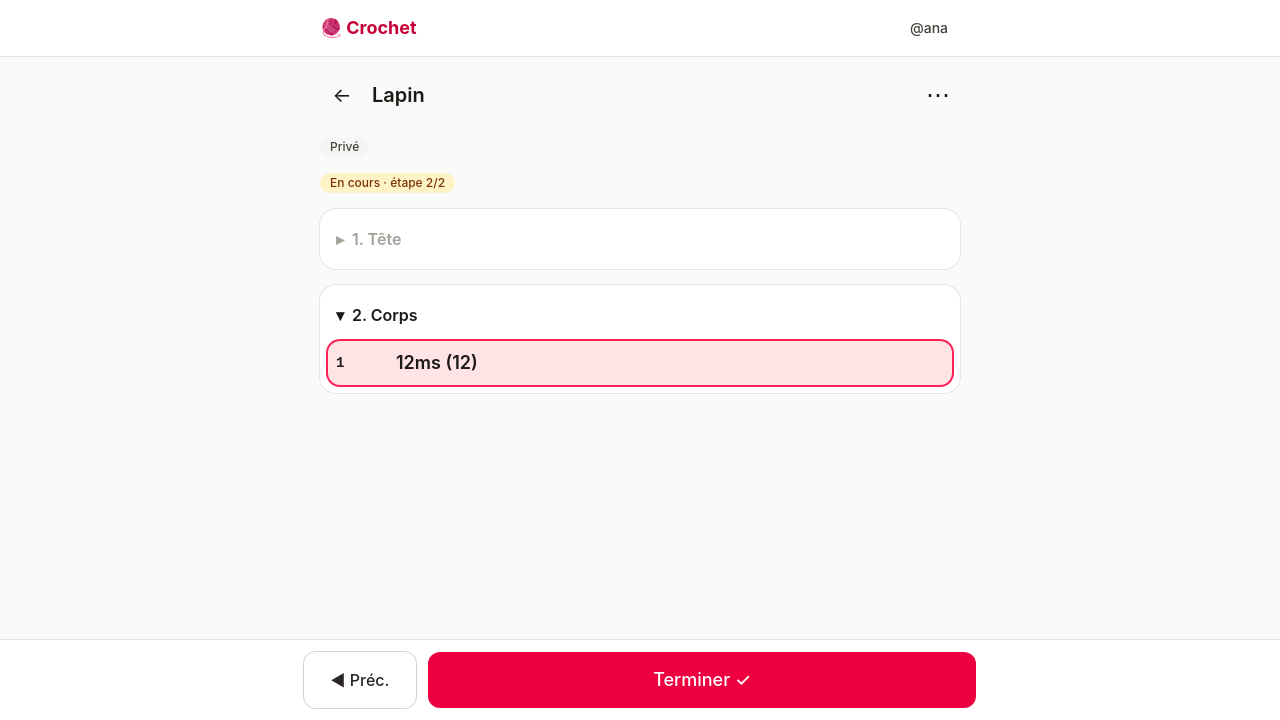
Test case: PatternDetailPage › désactive Précédent au premier rang et recule ensuite
What coordinates should you click on to do the following:
click the button with aria-label "Rang précédent"
I would click on:
 (360, 680)
Its box is [304,652,416,708].
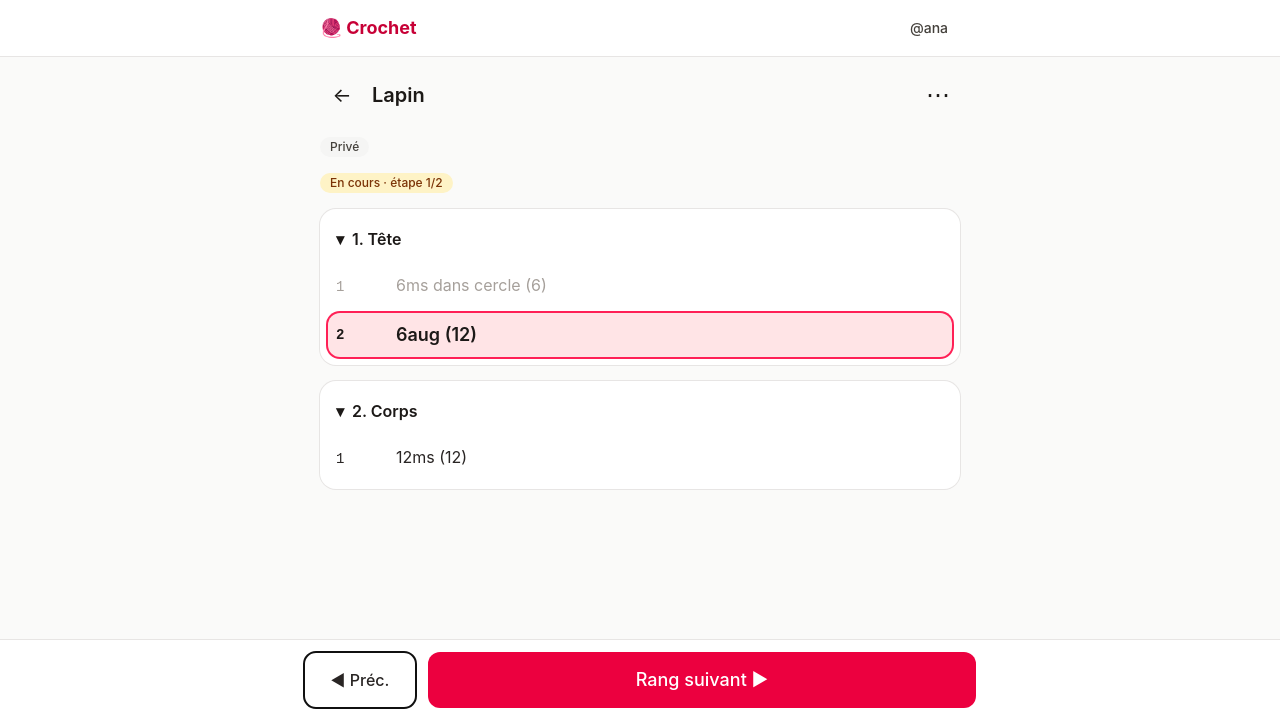
What coordinates should you click on to do the following:
click the button with aria-label "Rang précédent"
I would click on:
 (360, 680)
Its box is [304,652,416,708].
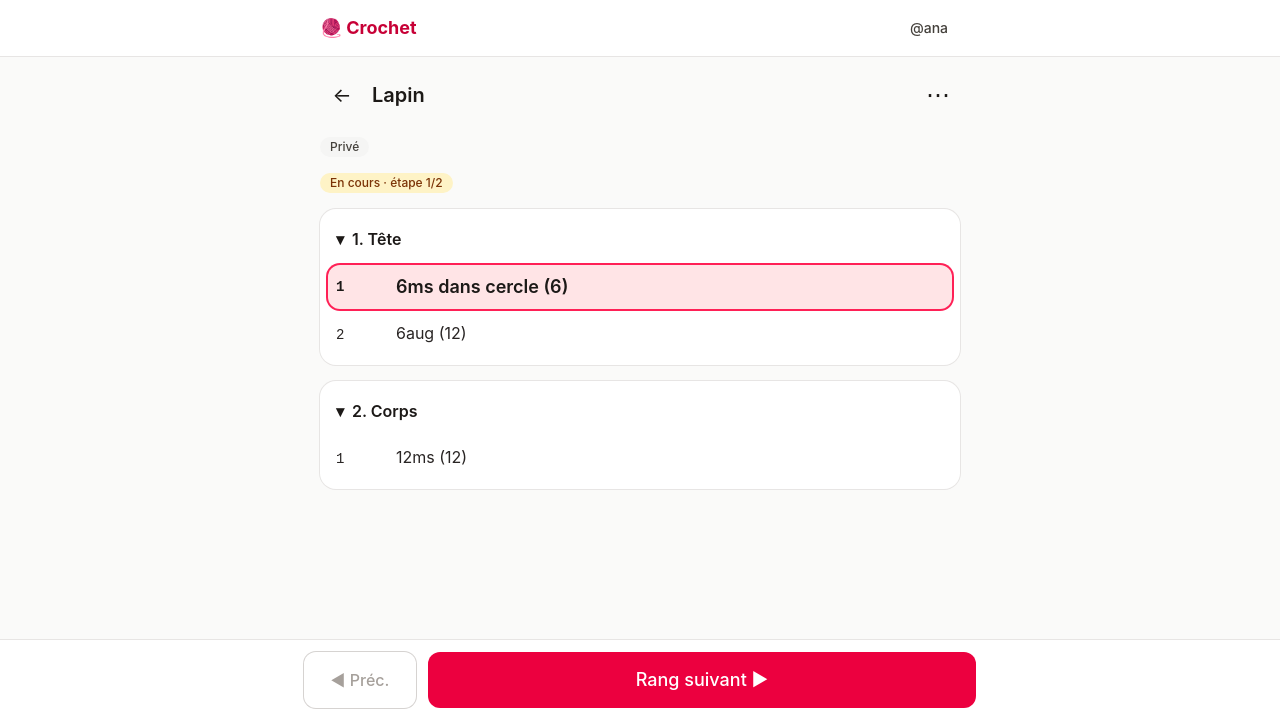
Check: the button with aria-label "Rang précédent" is disabled, box [304,652,416,708]
